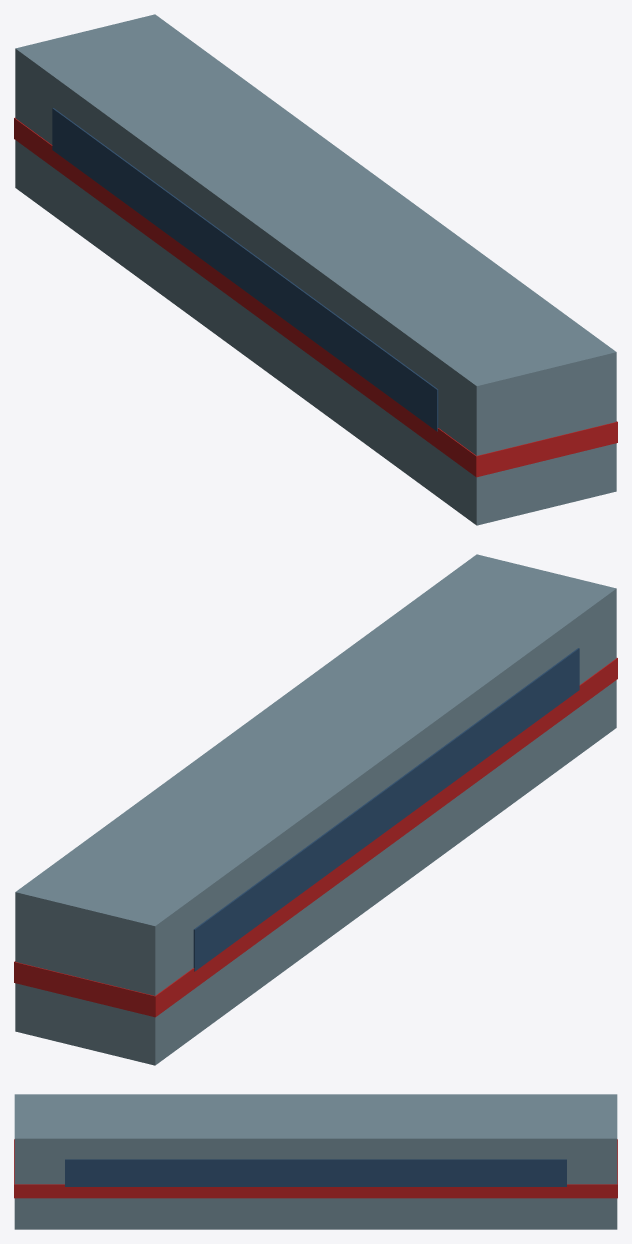
The model's file is railway_passenger_car.glb.
The picture shows the model from 3 angles, top to bottom: view 1: azimuth 30°, elevation 25°; view 2: azimuth 150°, elevation 25°; view 3: azimuth 270°, elevation 25°; orthographic projection. The views are drawn at different scales.
Bounding box in the file's own units: 4.28 × 4 × 24.05.
